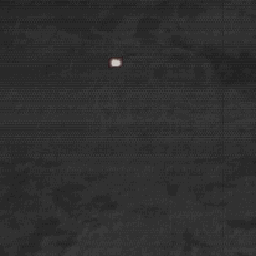Target: (109, 57, 123, 67)
